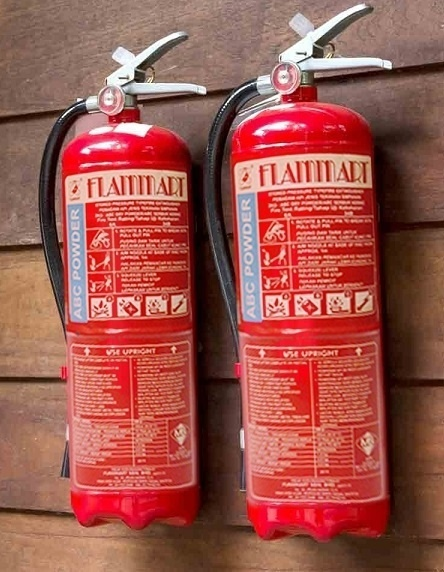fire_extinguisher: (202, 2, 394, 544), (38, 30, 206, 531)
